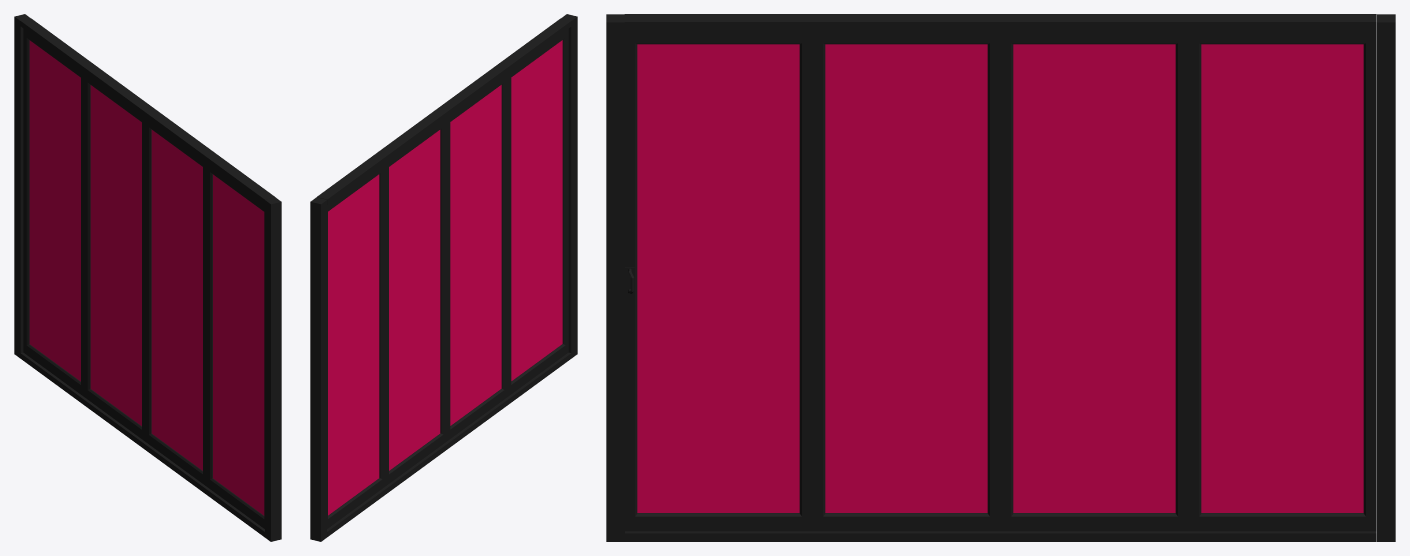
File: animated-main-door.glb
3 renders of one model, left to right at view 1: azimuth 30°, elevation 25°; view 2: azimuth 150°, elevation 25°; view 3: azimuth 270°, elevation 25°, orthographic. The views are drawn at different scales.
Visible parts, largest first — view 1: Door 3, Door 2, Door 1, Door 4, Sliding Frame 1, Top Frame, Sliding Frame, Bottom Frame; view 2: Door 3, Door 2, Door 4, Door 1, Sliding Frame, Top Frame, Sliding Frame 1, Bottom Frame; view 3: Door 3, Door 2, Door 1, Door 4, Top Frame, Sliding Frame, Sliding Frame 1, Bottom Frame.
Part boxes in pixels (box(x1,y1,x2,y2)): Door 3: box(145, 118, 206, 486); Door 2: box(84, 73, 145, 441); Door 1: box(23, 28, 84, 396); Door 4: box(206, 163, 264, 528); Sliding Frame 1: box(265, 197, 281, 541); Top Frame: box(20, 18, 275, 204); Sliding Frame: box(14, 14, 30, 358); Bottom Frame: box(20, 352, 264, 537); Door 3: box(446, 73, 507, 441); Door 2: box(385, 118, 446, 485); Door 4: box(508, 28, 568, 396); Door 1: box(327, 162, 385, 528); Sliding Frame: box(310, 197, 326, 541); Top Frame: box(317, 18, 571, 204); Sliding Frame 1: box(561, 14, 577, 357); Bottom Frame: box(327, 352, 571, 537); Door 3: box(812, 30, 1000, 531); Door 2: box(1000, 30, 1188, 531); Door 1: box(1188, 30, 1376, 531); Door 4: box(625, 30, 812, 531); Top Frame: box(624, 14, 1376, 30); Sliding Frame: box(1377, 14, 1395, 541); Sliding Frame 1: box(606, 14, 624, 541); Bottom Frame: box(624, 531, 1376, 541).
Bounding box in the file's own units: 0.1405 × 3.05 × 4.2.
